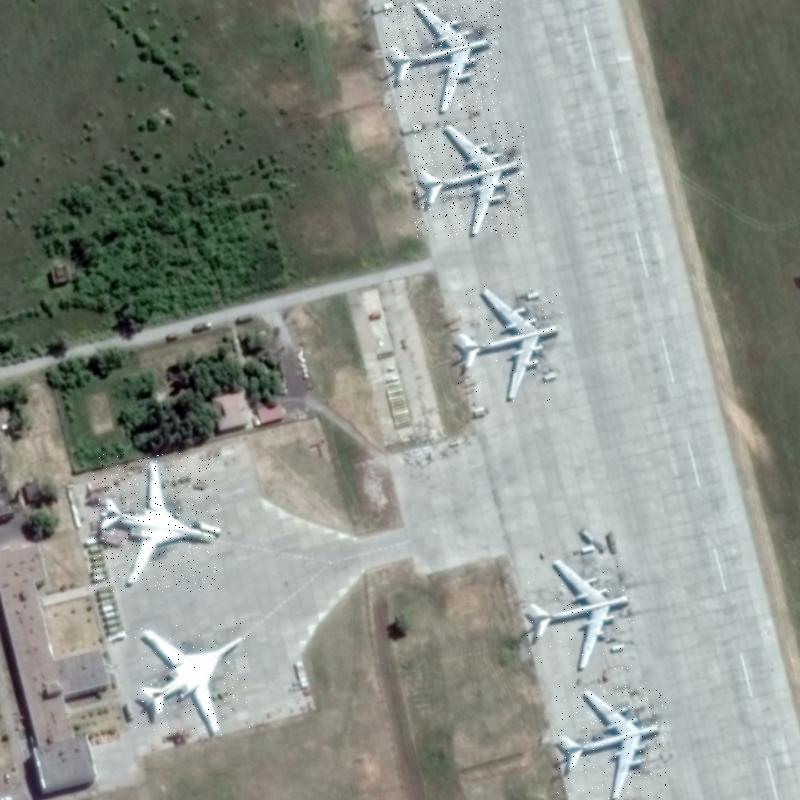A17: (386, 0, 501, 113), (414, 121, 524, 237), (455, 285, 563, 402), (556, 686, 667, 799), (526, 557, 634, 670)
A6: (93, 453, 219, 592), (134, 623, 251, 735)
